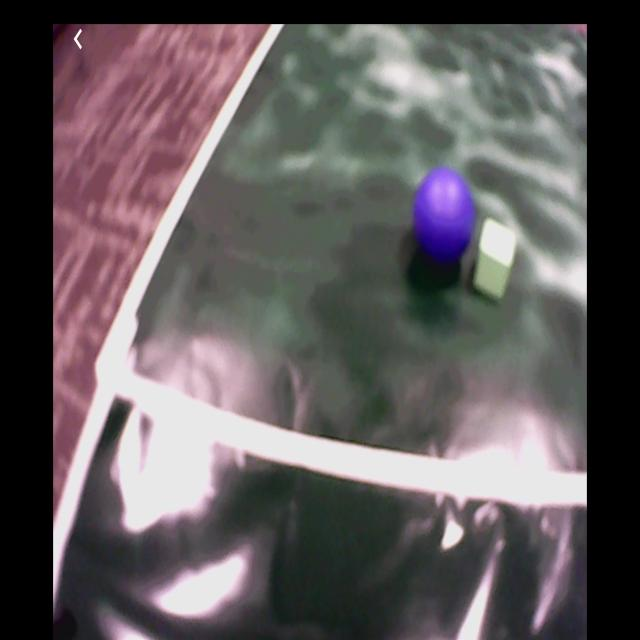ball: (414, 170, 475, 259)
